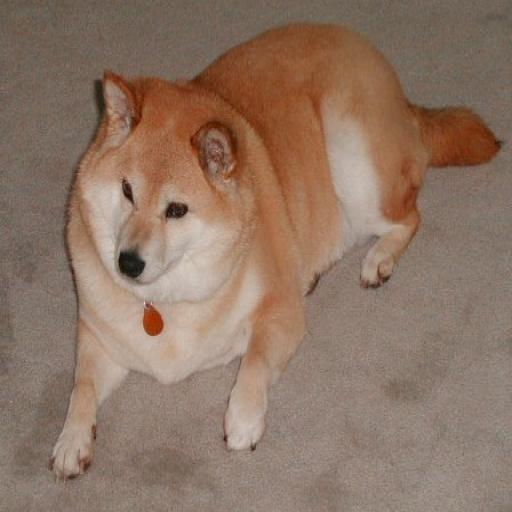dog_face: (87, 93, 244, 295)
